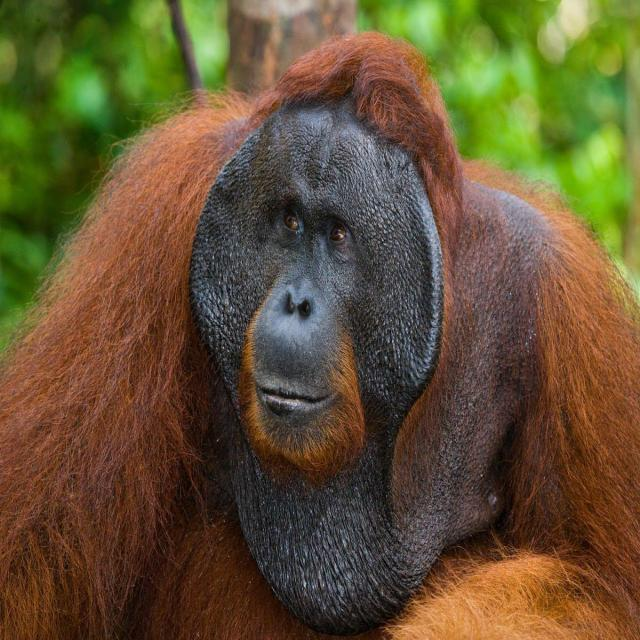Chimpanzee: (30, 46, 640, 640)
